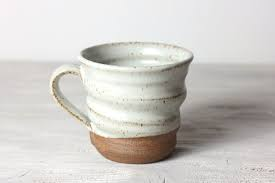mug: (17, 32, 210, 166)
